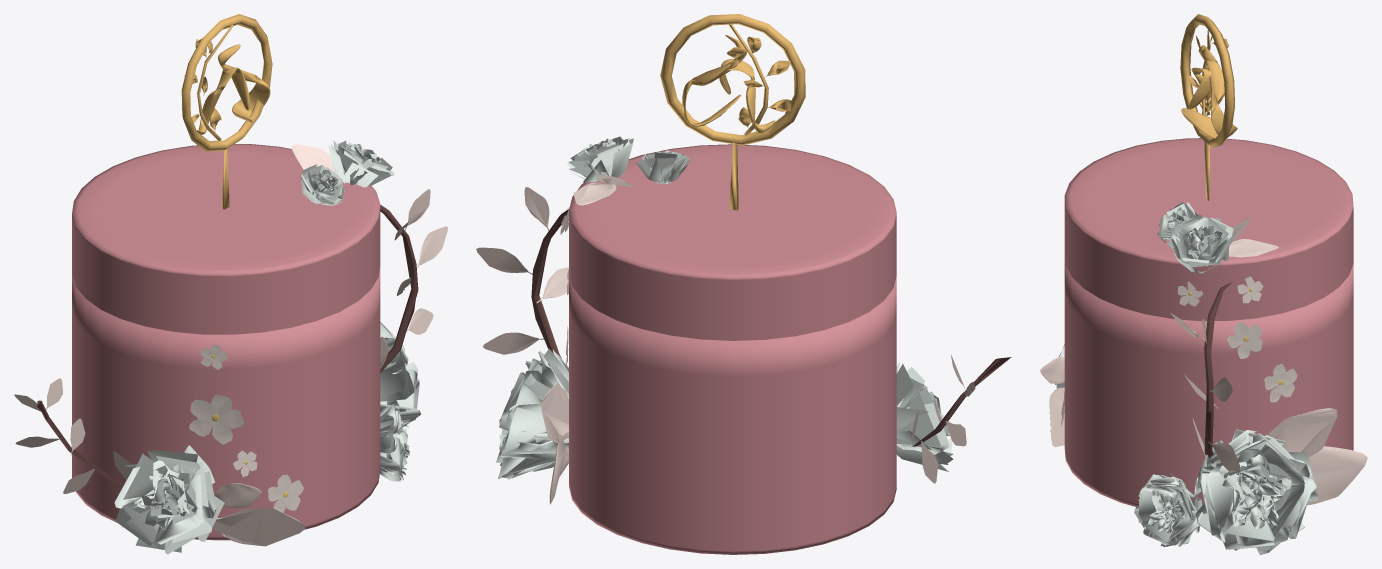
File: 1-tier-blush-roses-ring.glb
The picture shows the model from 3 angles, left to right: view 1: azimuth 30°, elevation 25°; view 2: azimuth 150°, elevation 25°; view 3: azimuth 270°, elevation 25°; orthographic projection. The views are drawn at different scales.
Visible parts, largest first — view 1: Cylinder.019, grid.039, Cylinder.017, Plane.083, Plane.074, Plane.075, grid.038, grid.041, grid.033, Sphere.050, grid.035, Sphere.054 (+2 smaller); view 2: Cylinder.019, Cylinder.017, grid.038, Plane.083, grid.039, grid.041, Plane.075, Plane.079, grid.035, Plane.086; view 3: Cylinder.019, grid.038, Cylinder.017, grid.033, grid.041, Plane.083, Plane.080, Plane.079, Sphere.057, Sphere.059, Plane.074, grid.035 (+4 smaller).
Boxes of the visible parts, left/top/right/bottom form: Cylinder.019: left=72, top=144, right=380, bottom=540; grid.039: left=114, top=445, right=224, bottom=554; Cylinder.017: left=181, top=14, right=272, bottom=209; Plane.083: left=380, top=189, right=447, bottom=373; Plane.074: left=213, top=508, right=305, bottom=546; Plane.075: left=14, top=378, right=132, bottom=493; grid.038: left=380, top=322, right=421, bottom=428; grid.041: left=328, top=140, right=394, bottom=187; grid.033: left=380, top=404, right=409, bottom=481; Sphere.050: left=189, top=394, right=244, bottom=444; grid.035: left=301, top=164, right=344, bottom=205; Sphere.054: left=268, top=474, right=303, bottom=512; Cylinder.019: left=569, top=144, right=896, bottom=554; Cylinder.017: left=660, top=14, right=805, bottom=210; grid.038: left=496, top=348, right=568, bottom=479; Plane.083: left=476, top=187, right=569, bottom=358; grid.039: left=896, top=362, right=953, bottom=471; grid.041: left=566, top=136, right=633, bottom=182; Plane.075: left=911, top=355, right=1011, bottom=483; Plane.079: left=541, top=383, right=568, bottom=443; grid.035: left=635, top=150, right=689, bottom=183; Plane.086: left=573, top=182, right=616, bottom=205; Cylinder.019: left=1064, top=138, right=1353, bottom=506; grid.038: left=1194, top=429, right=1317, bottom=554; Cylinder.017: left=1180, top=14, right=1237, bottom=200; grid.033: left=1134, top=473, right=1201, bottom=546; grid.041: left=1167, top=214, right=1234, bottom=273; Plane.083: left=1170, top=282, right=1240, bottom=470; Plane.080: left=1307, top=446, right=1367, bottom=505; Plane.079: left=1267, top=408, right=1337, bottom=457; Sphere.057: left=1227, top=321, right=1262, bottom=358; Sphere.059: left=1264, top=364, right=1297, bottom=402; Plane.074: left=1049, top=387, right=1064, bottom=447; grid.035: left=1157, top=202, right=1199, bottom=242.
Size of the model in its own units: 4.49 by 4.46 by 2.9.
